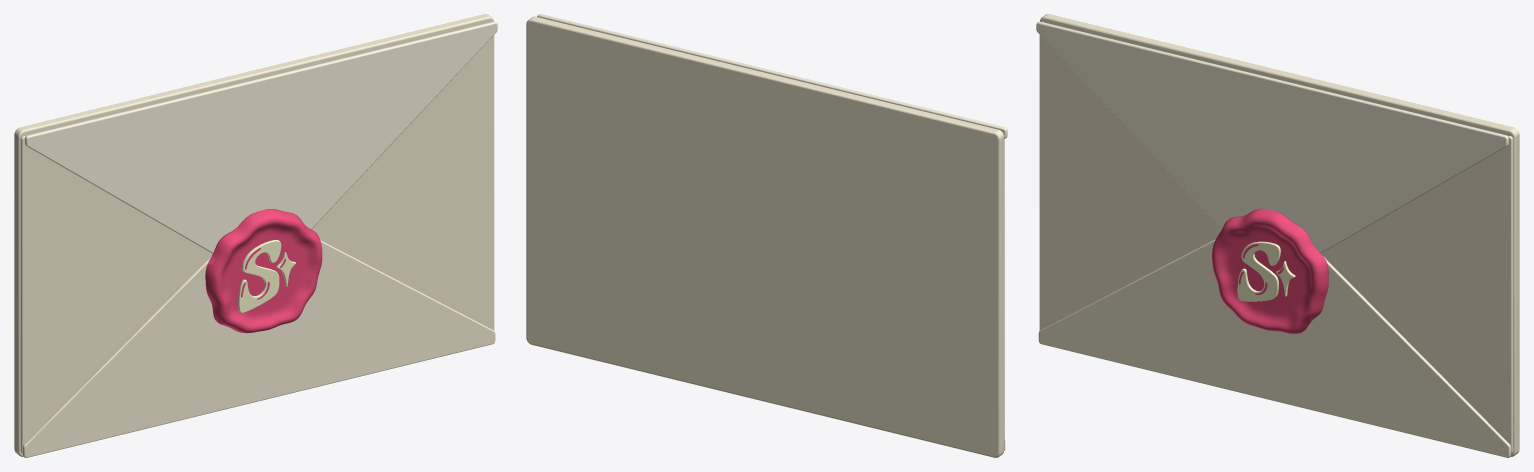
The model's file is Sembang_Cream_Envelope.glb.
The picture shows the model from 3 angles, left to right: view 1: azimuth 30°, elevation 25°; view 2: azimuth 150°, elevation 25°; view 3: azimuth 330°, elevation 25°; orthographic projection.
Visible parts, largest first — view 1: Closing_flap, Bottom_fold, Left_fold, Right_fold, Raspberry_wax_seal, Envelope_body, Cream_S; view 2: Envelope_body, Closing_flap; view 3: Closing_flap, Bottom_fold, Right_fold, Left_fold, Raspberry_wax_seal, Envelope_body, Cream_S.
Boxes of the visible parts, bbox=[...] form: Closing_flap: bbox=[25, 21, 497, 253]; Bottom_fold: bbox=[23, 240, 495, 457]; Left_fold: bbox=[20, 136, 212, 453]; Right_fold: bbox=[312, 22, 494, 330]; Raspberry_wax_seal: bbox=[205, 209, 322, 333]; Envelope_body: bbox=[14, 14, 493, 456]; Cream_S: bbox=[238, 240, 281, 312]; Envelope_body: bbox=[526, 16, 1004, 457]; Closing_flap: bbox=[537, 14, 1007, 138]; Closing_flap: bbox=[1036, 21, 1508, 253]; Bottom_fold: bbox=[1038, 239, 1510, 457]; Right_fold: bbox=[1321, 136, 1513, 453]; Left_fold: bbox=[1039, 22, 1221, 330]; Raspberry_wax_seal: bbox=[1212, 208, 1328, 333]; Envelope_body: bbox=[1040, 14, 1519, 456]; Cream_S: bbox=[1237, 241, 1280, 301].
Size of the model in its own units: 6.4 by 4.2 by 0.417.
